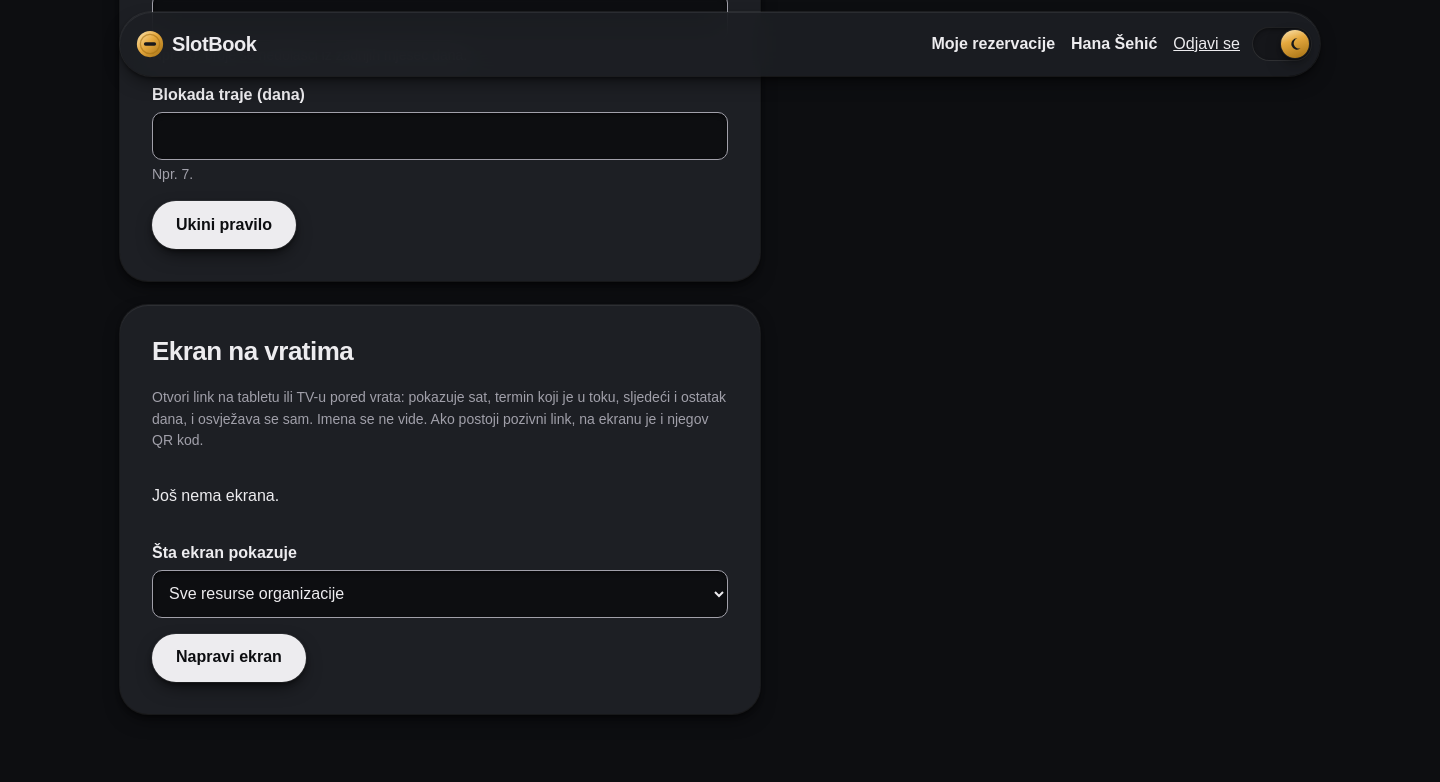
Test: admin napravi ekran za jedan resurs, otvori ga i ugasi
(page scrolled)
Expected: the text "Još nema ekrana." is shown, [152,487,279,504]
Select "Samo Sto 4, tihi dio" in the dropdown labelled "Šta ekran pokazuje". click: (440, 594)
box: [152,570,728,618]
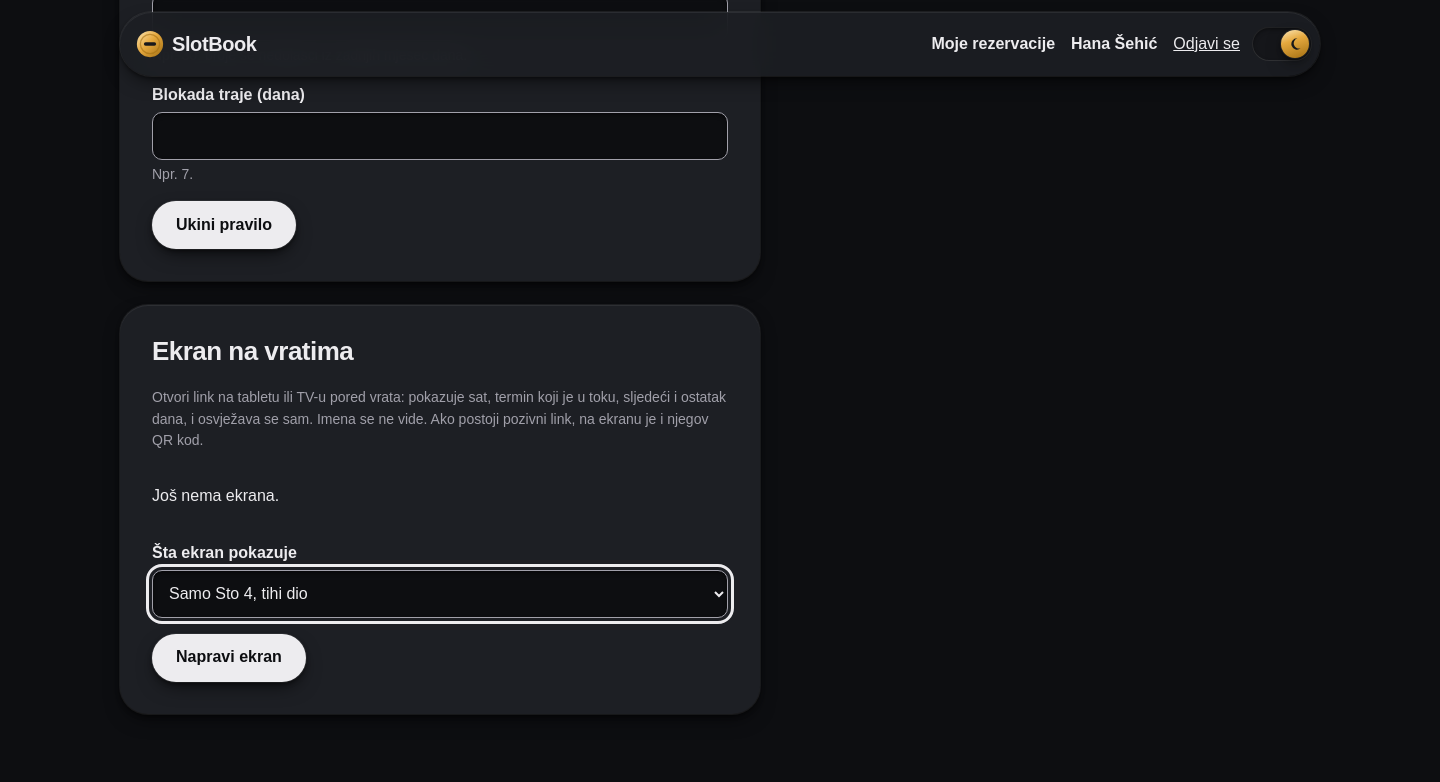
Click the button "Napravi ekran". click: (229, 658)
box: [152,634,306,682]
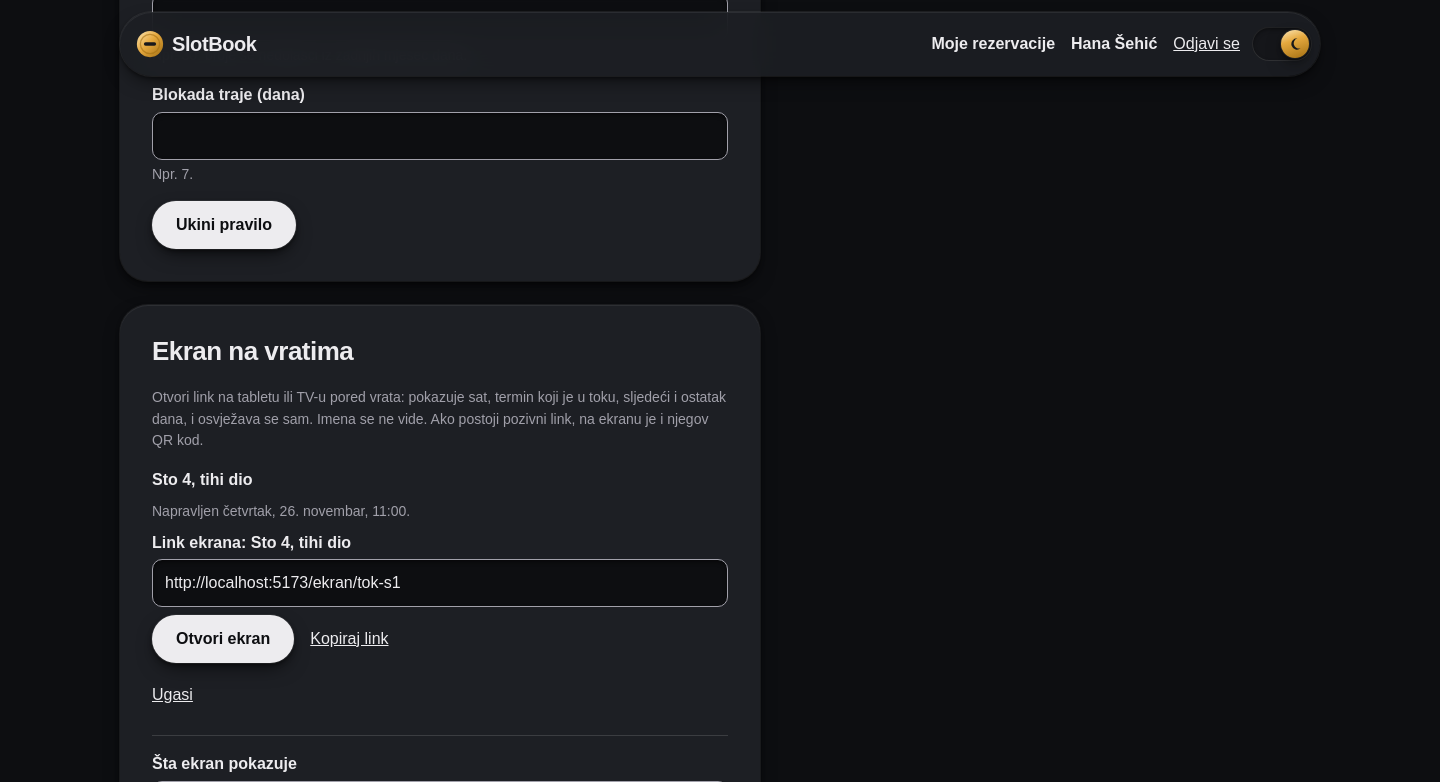
Expected: the field labelled "Link ekrana: Sto 4, tihi dio" holds "http://localhost:5173/ekran/tok-s1", [152,559,728,607]
Click the button "Ugasi". click: (172, 695)
box: [152,671,193,719]
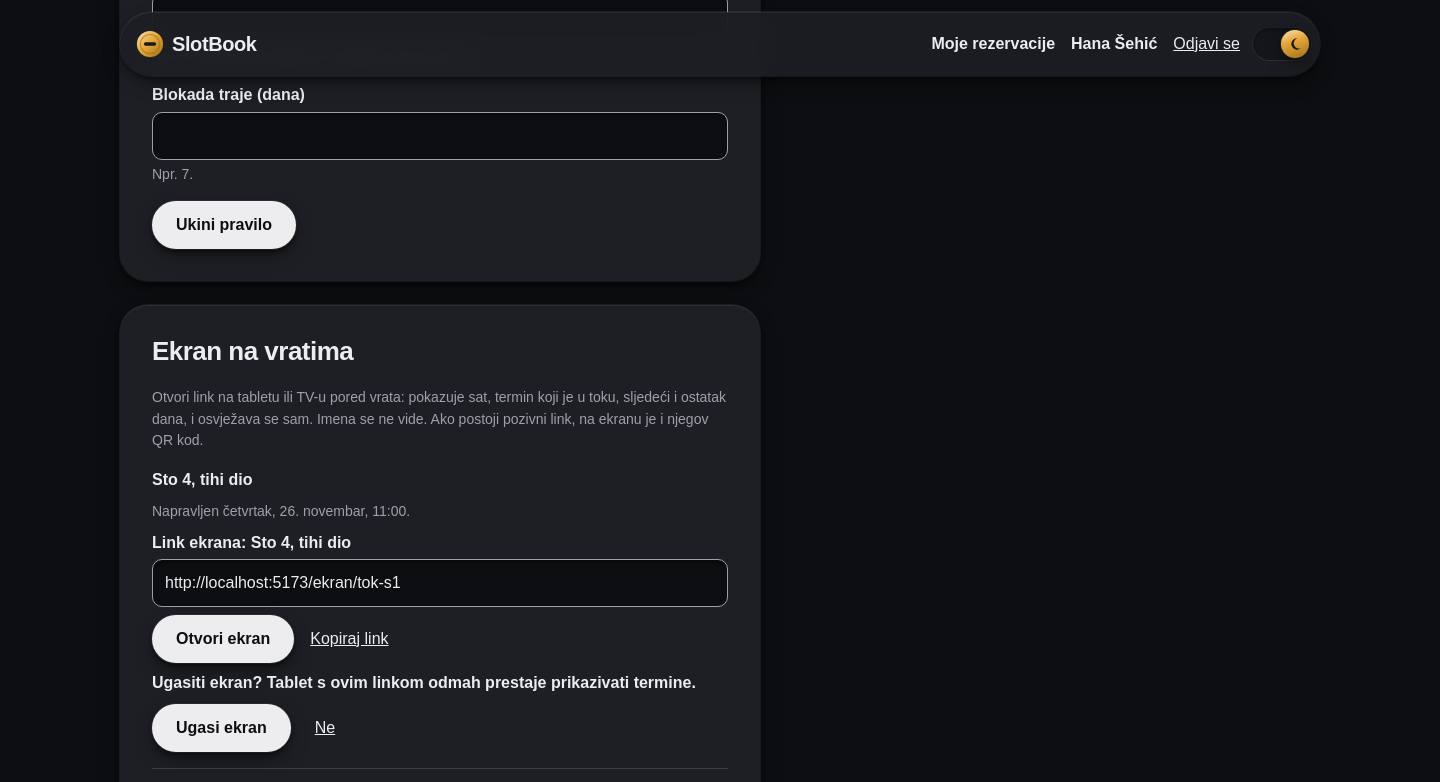
Click the button "Ugasi ekran". click: (221, 728)
box: [152,704,291,752]
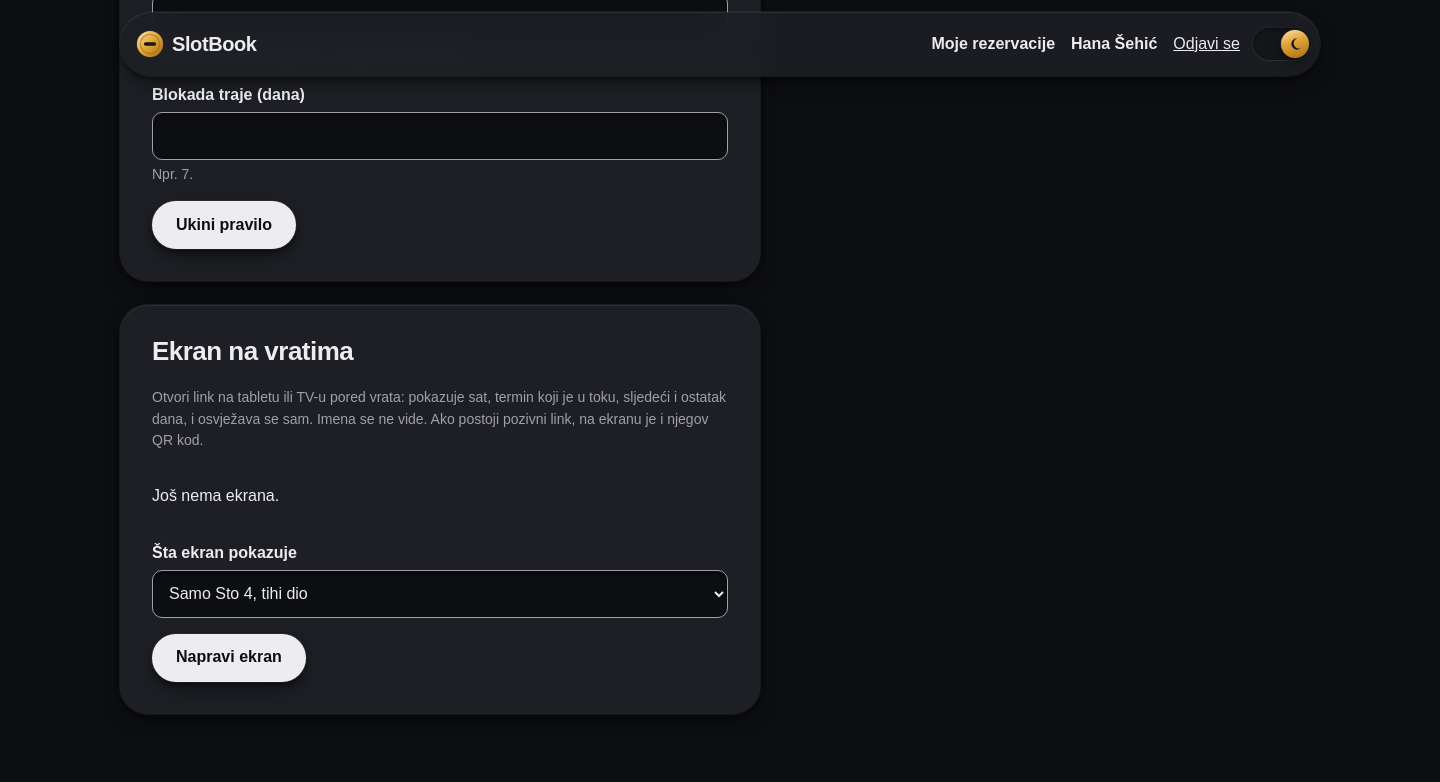
Expected: the text "Još nema ekrana." is shown, [152,487,279,504]
